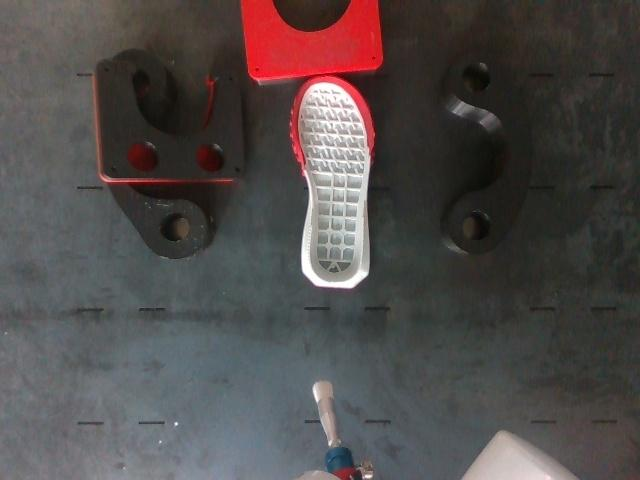shoes: (294, 77, 373, 283)
